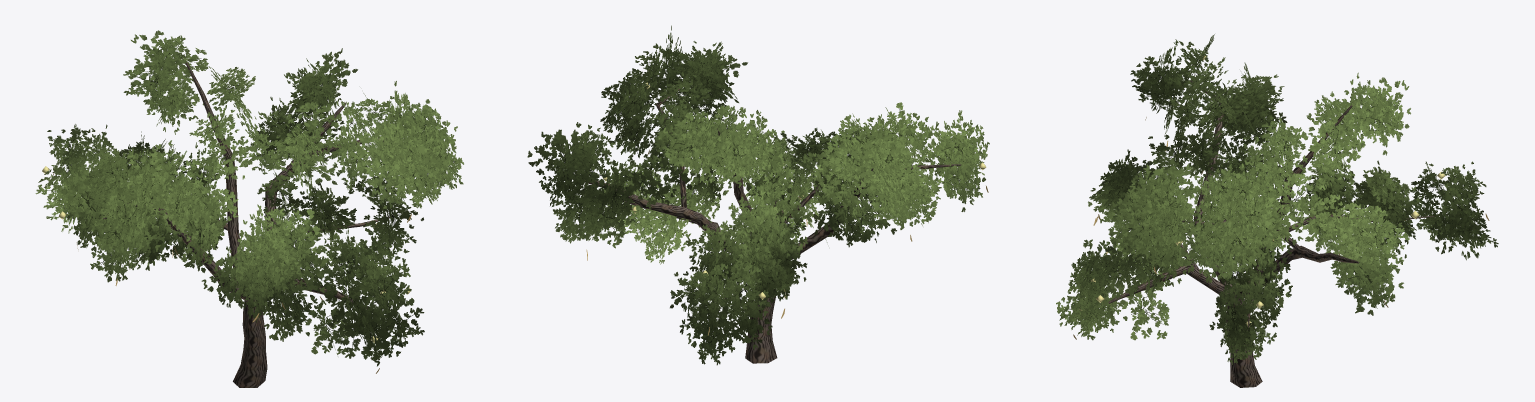
The model's file is adult-b.lod1.glb.
3 renders of one model, left to right at view 1: azimuth 30°, elevation 25°; view 2: azimuth 150°, elevation 25°; view 3: azimuth 270°, elevation 25°, orthographic. The views are drawn at different scales.
Visible parts, largest first — view 1: foliage, bark; view 2: foliage, bark; view 3: foliage, bark.
Part boxes in pixels (x1=…): foliage: x1=35, y1=30, x2=463, y2=366; bark: x1=82, y1=62, x2=394, y2=387; foliage: x1=527, y1=25, x2=989, y2=365; bark: x1=585, y1=88, x2=960, y2=363; foliage: x1=1056, y1=34, x2=1498, y2=364; bark: x1=1108, y1=80, x2=1446, y2=387.
Size of the model in its own units: 10.19 by 7.5 by 10.39.
4 materials, 3 textured.
